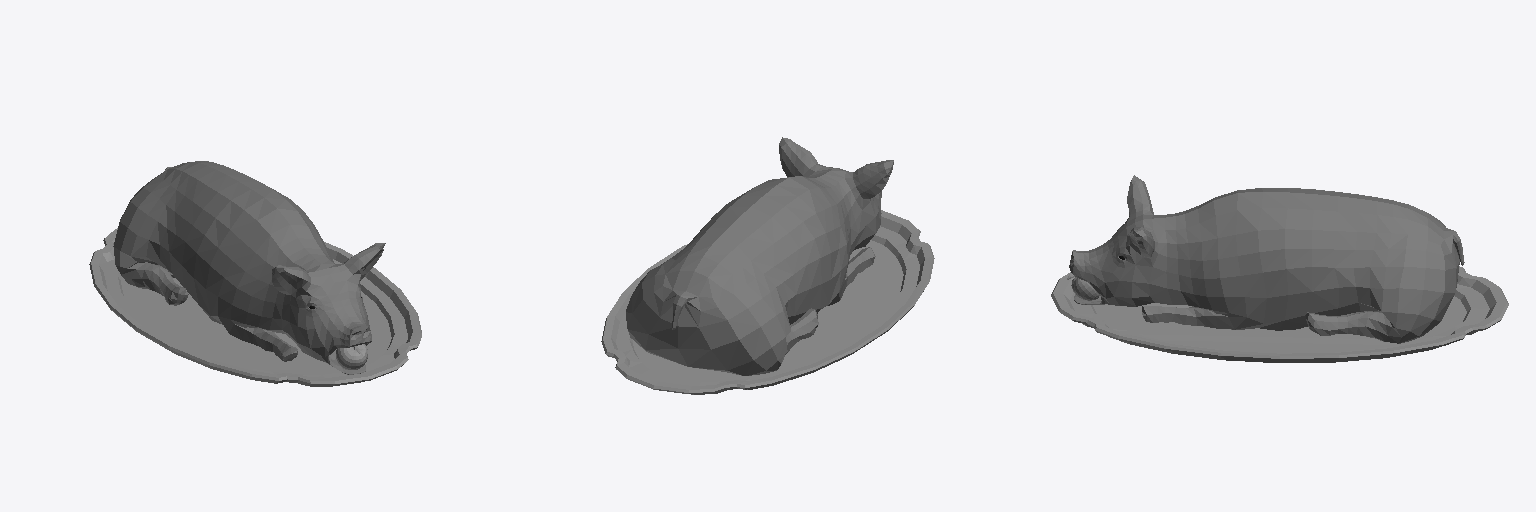
Rendered from RoastedPig.obj.
3 renders of one model, left to right at view 1: azimuth 30°, elevation 25°; view 2: azimuth 150°, elevation 25°; view 3: azimuth 270°, elevation 25°, orthographic.
Parts seen in each view (by area): view 1: Pig1_Mesh, plate_low_Mesh.002, Apple_Mesh.001; view 2: Pig1_Mesh, plate_low_Mesh.002; view 3: Pig1_Mesh, plate_low_Mesh.002.
Boxes of the visible parts, box(x1,y1,x2,y2) form: Pig1_Mesh: box(113, 161, 385, 374); plate_low_Mesh.002: box(89, 228, 421, 386); Apple_Mesh.001: box(336, 344, 367, 369); Pig1_Mesh: box(626, 137, 893, 375); plate_low_Mesh.002: box(601, 210, 934, 394); Pig1_Mesh: box(1069, 175, 1464, 343); plate_low_Mesh.002: box(1051, 266, 1508, 362).
Size of the model in its own units: 3.81 by 1.94 by 6.26.